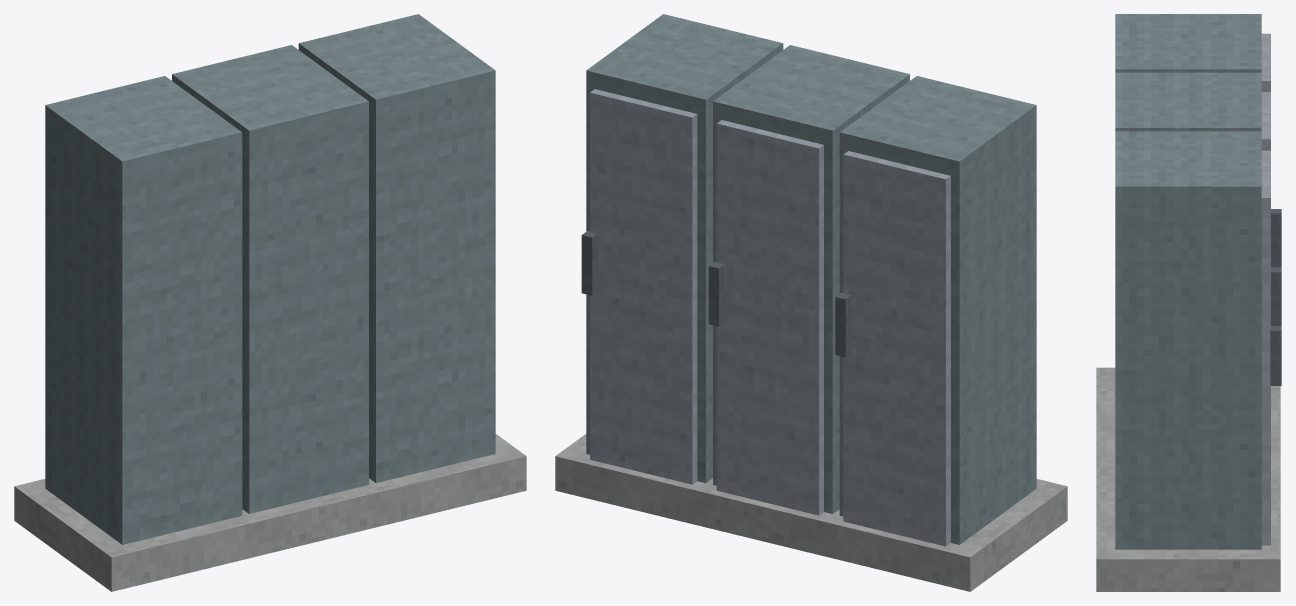
The model's file is level_blockout_mortuary_cold_storage.glb.
3 renders of one model, left to right at view 1: azimuth 30°, elevation 25°; view 2: azimuth 150°, elevation 25°; view 3: azimuth 270°, elevation 25°, orthographic. The views are drawn at different scales.
Visible parts, largest first — view 1: level_blockout_mortuary_cold_storage; view 2: level_blockout_mortuary_cold_storage; view 3: level_blockout_mortuary_cold_storage.
Part boxes in pixels (<box>): level_blockout_mortuary_cold_storage: <box>14,14,526,591</box>; level_blockout_mortuary_cold_storage: <box>555,14,1067,591</box>; level_blockout_mortuary_cold_storage: <box>1096,14,1281,591</box>.
Size of the model in its own units: 2.39 by 2.31 by 0.975.
4 materials, 4 textured.
